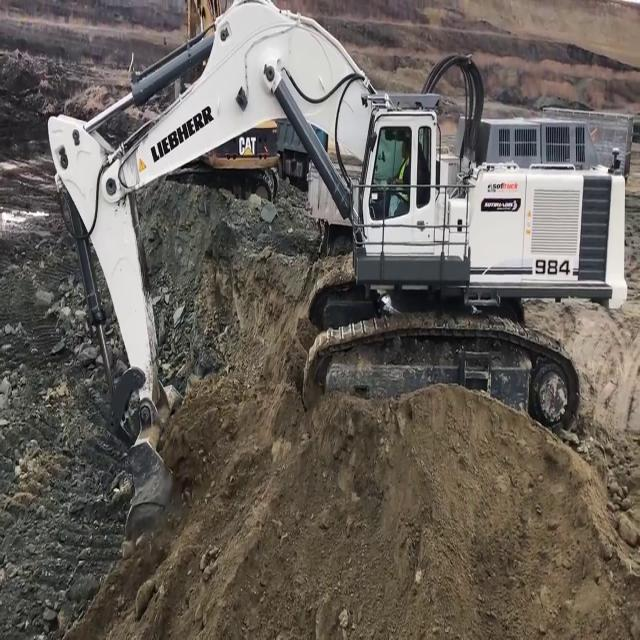excavator: (43, 3, 629, 503)
